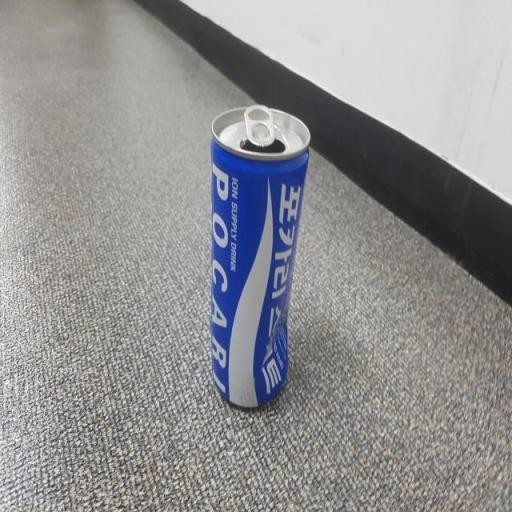metal: (184, 92, 338, 430)
